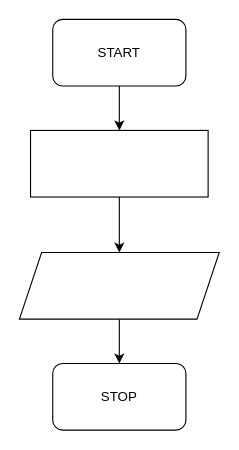
Some shapes in this 239 by 450 pixel diagram are drawn without their labels. The box of each missing label's shape, as (x1, y1, x2, y2) in pixels:
reverse_sentence(string): (29, 129, 208, 197)
string.split.reverse.join(): (18, 251, 219, 319)
